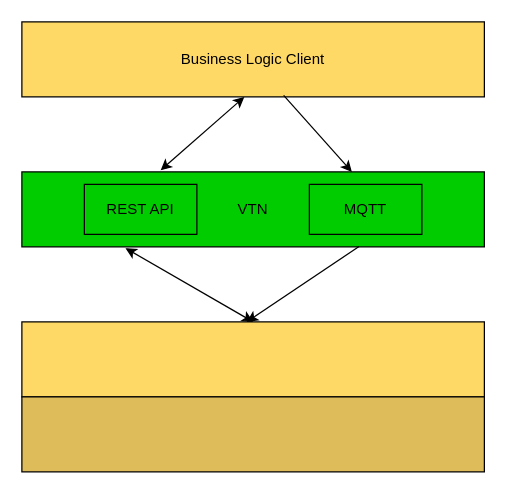
Some shapes in this 506 by 494 pixel diagram are drawn without their labels. Here are the shapes that lost their labels. From the top down, the centre of each, then its label:
[252,359]: VEN
[252,434]: Customer Logic
